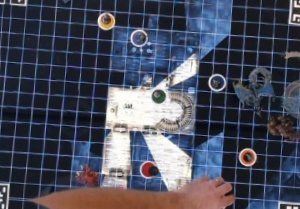blue: (204, 70, 226, 92)
green: (147, 86, 169, 107)
orange: (235, 144, 257, 168)
red: (136, 157, 157, 179)
violet: (126, 25, 150, 48)
yellow: (95, 9, 117, 32)
